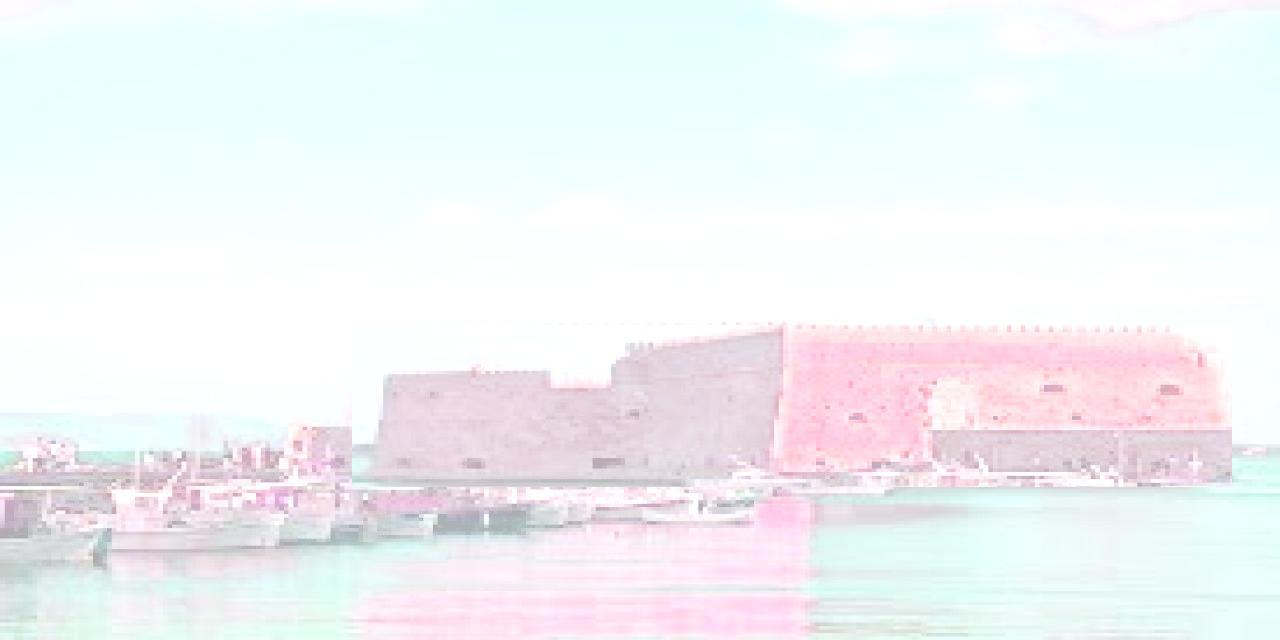Kules: (353, 326, 1233, 488)
